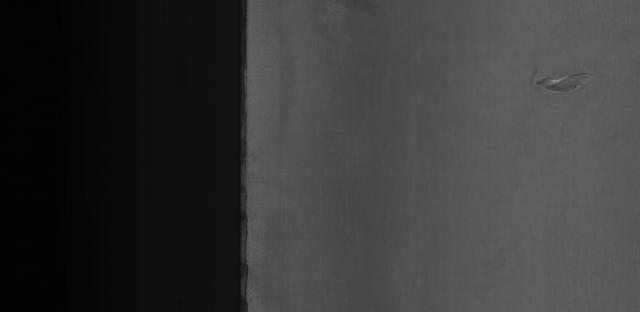rolled_pit: (516, 61, 599, 101)
